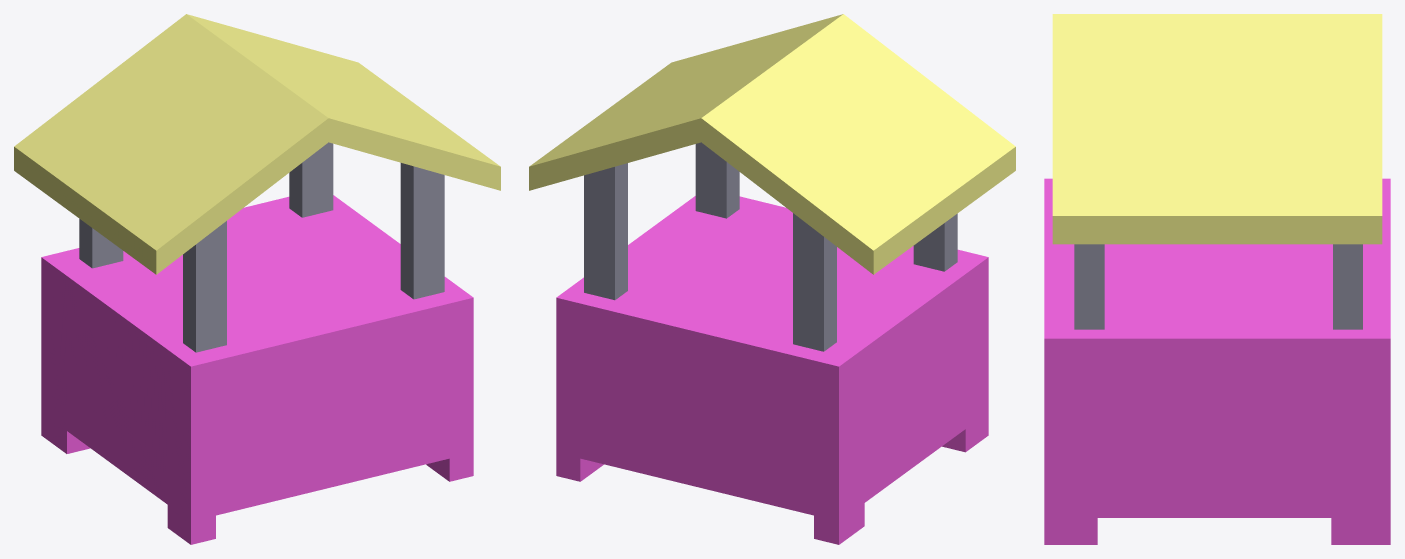
Rendered from Barracas.fbx.
3 renders of one model, left to right at view 1: azimuth 30°, elevation 25°; view 2: azimuth 150°, elevation 25°; view 3: azimuth 270°, elevation 25°, orthographic. The views are drawn at different scales.
Parts seen in each view (by area): view 1: Cube, Cube.001, Cube.003, Cube.005, Cube.004, Cube.002; view 2: Cube, Cube.001, Cube.004, Cube.002, Cube.003, Cube.005; view 3: Cube, Cube.001, Cube.003, Cube.004.
Part boxes in pixels (bbox=[...]): Cube: bbox=[41, 195, 473, 544]; Cube.001: bbox=[14, 14, 500, 274]; Cube.003: bbox=[400, 163, 444, 299]; Cube.005: bbox=[183, 221, 226, 352]; Cube.004: bbox=[289, 142, 333, 217]; Cube.002: bbox=[79, 219, 123, 268]; Cube: bbox=[556, 196, 988, 544]; Cube.001: bbox=[529, 14, 1015, 274]; Cube.004: bbox=[584, 163, 627, 300]; Cube.002: bbox=[793, 213, 836, 351]; Cube.003: bbox=[695, 142, 739, 218]; Cube.005: bbox=[913, 213, 957, 271]; Cube: bbox=[1044, 178, 1390, 544]; Cube.001: bbox=[1052, 14, 1382, 244]; Cube.003: bbox=[1074, 244, 1104, 329]; Cube.004: bbox=[1333, 244, 1362, 329].
Bounding box in the file's own units: 782 × 846 × 589.
